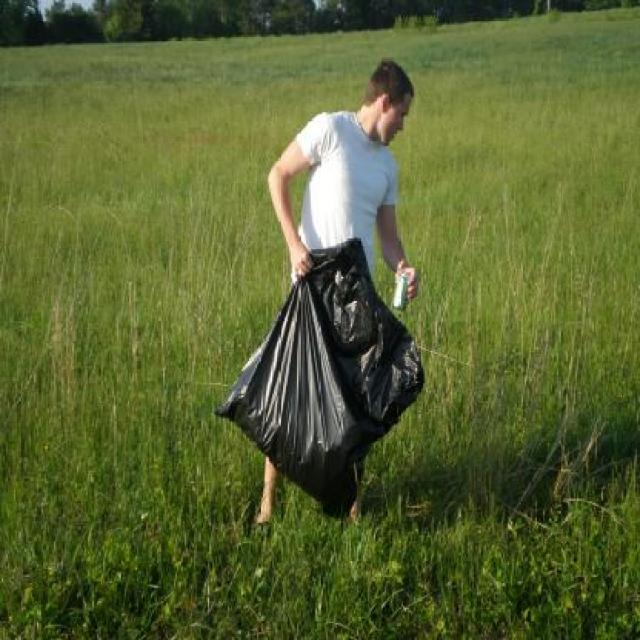garbage: (215, 282, 322, 496), (306, 256, 358, 512), (359, 252, 423, 440)
